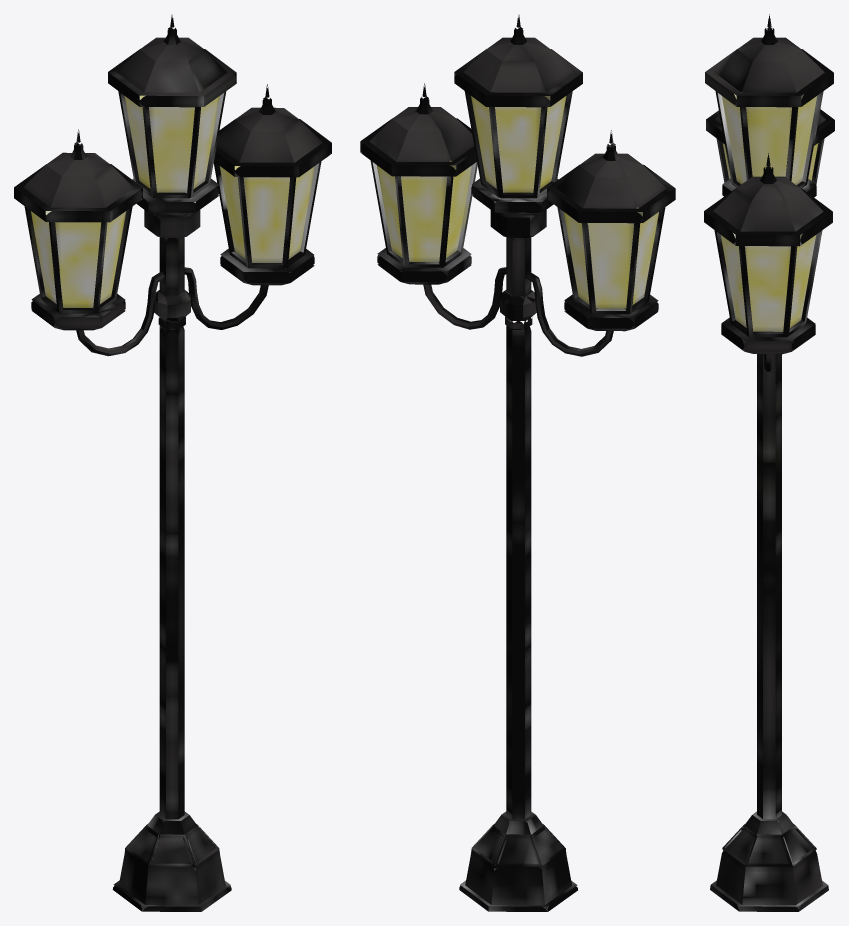
3 views of the same model, side by side, from view 1: azimuth 30°, elevation 25°; view 2: azimuth 150°, elevation 25°; view 3: azimuth 270°, elevation 25° (orthographic).
Parts seen in each view (by area): view 1: Cube.001; view 2: Cube.001; view 3: Cube.001.
Part boxes in pixels (x1,y1,x2,y2): Cube.001: [14, 14, 331, 911]; Cube.001: [360, 14, 675, 911]; Cube.001: [704, 14, 834, 911].
Size of the model in its own units: 160 by 471 by 63.74.
Materials: 1 (1 with a texture image).
